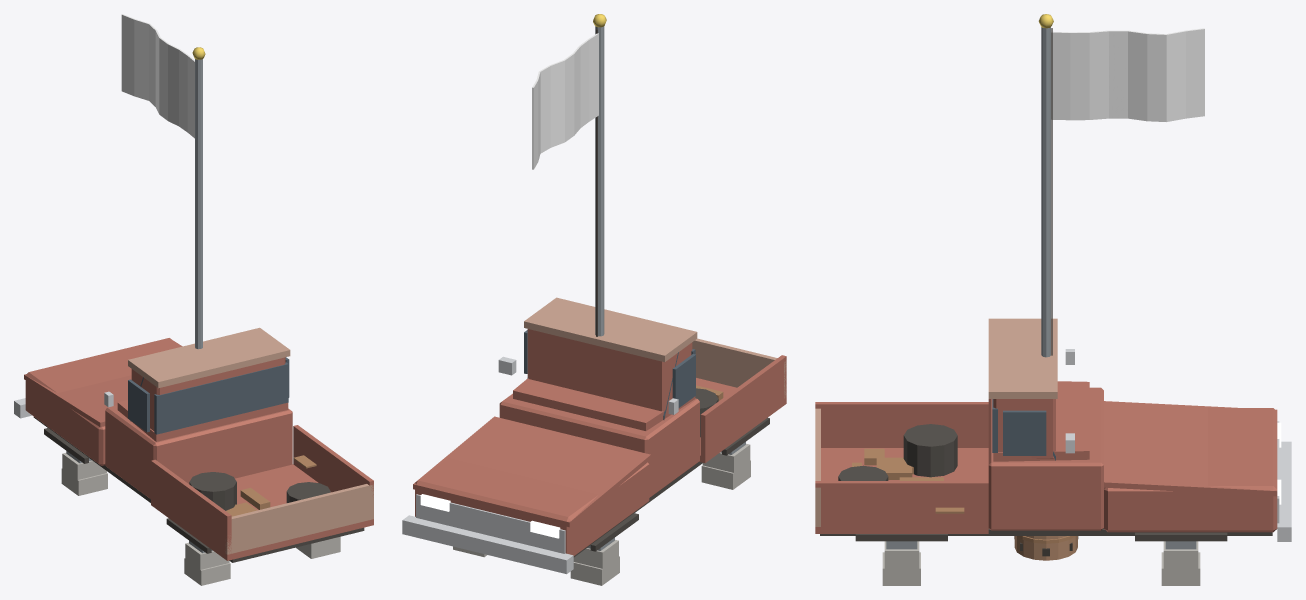
File: rim_props.glb
3 views of the same model, side by side, from view 1: azimuth 30°, elevation 25°; view 2: azimuth 150°, elevation 25°; view 3: azimuth 270°, elevation 25° (orthographic). The views are drawn at different scales.
Visible parts, largest first — view 1: rp_pickup_mesh, rp_flag_mesh, rp_pole_mesh; view 2: rp_pickup_mesh, rp_flag_mesh, rp_pole_mesh; view 3: rp_pickup_mesh, rp_flag_mesh, rp_pole_mesh, rp_barrel_mesh.
Boxes of the visible parts, left/top/right/bottom form: rp_pickup_mesh: left=14, top=327, right=373, bottom=585; rp_flag_mesh: left=121, top=14, right=194, bottom=138; rp_pole_mesh: left=192, top=47, right=205, bottom=349; rp_pickup_mesh: left=402, top=297, right=786, bottom=585; rp_flag_mesh: left=532, top=33, right=598, bottom=169; rp_pole_mesh: left=593, top=14, right=606, bottom=336; rp_pickup_mesh: left=815, top=318, right=1291, bottom=585; rp_flag_mesh: left=1051, top=28, right=1204, bottom=121; rp_pole_mesh: left=1038, top=14, right=1053, bottom=357; rp_barrel_mesh: left=1014, top=536, right=1078, bottom=560.
Bounding box in the file's own units: 2.24 × 6.11 × 4.95.
